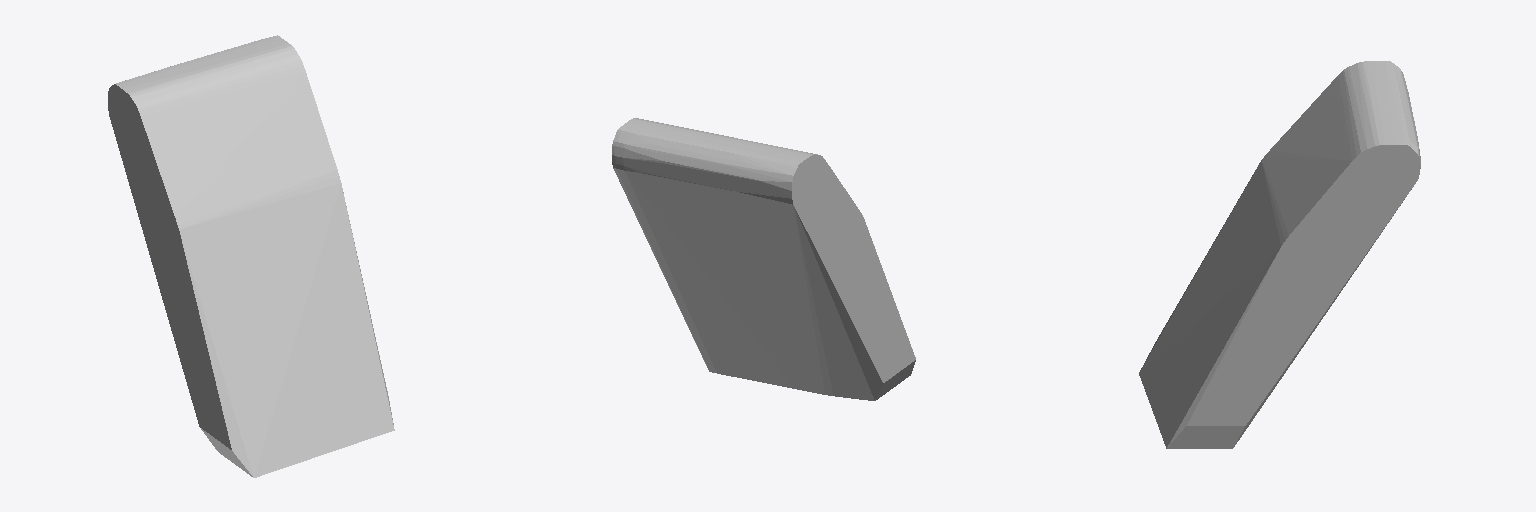
The model's file is Bowl_21_collision_14.obj.
3 views of the same model, side by side, from view 1: azimuth 30°, elevation 25°; view 2: azimuth 150°, elevation 25°; view 3: azimuth 270°, elevation 25° (orthographic).
Size of the model in its own units: 0.0536 by 0.091 by 0.0761.